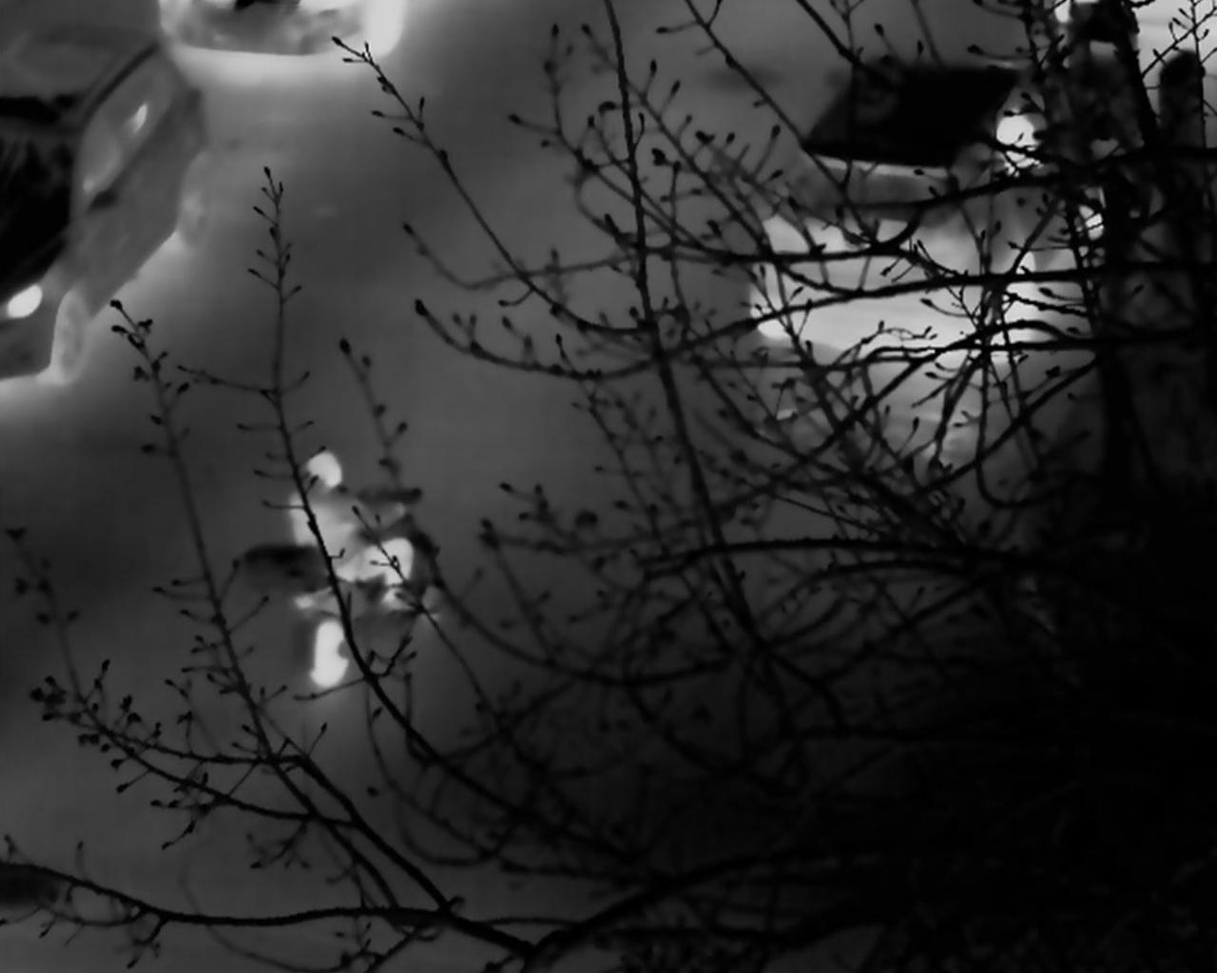person: (289, 450, 417, 635)
